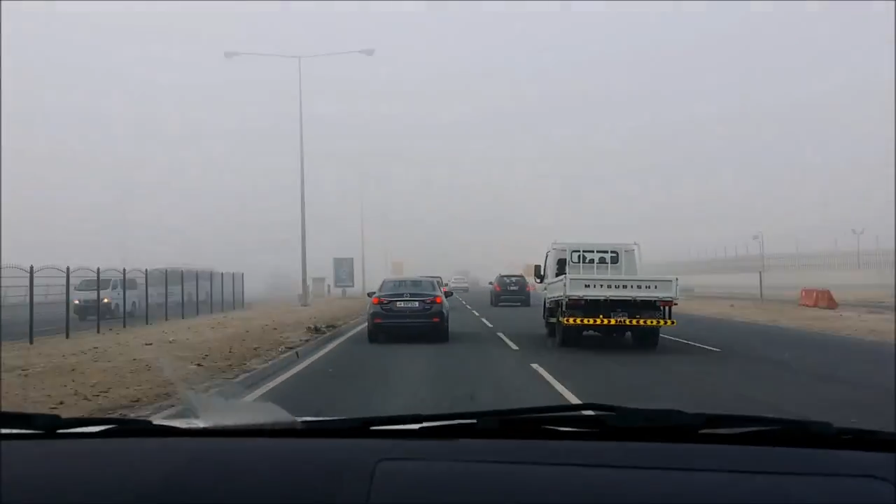bus: (533, 240, 679, 352), (146, 264, 225, 306)
car: (365, 276, 454, 343), (71, 275, 140, 322), (488, 273, 532, 307), (447, 275, 471, 293)
